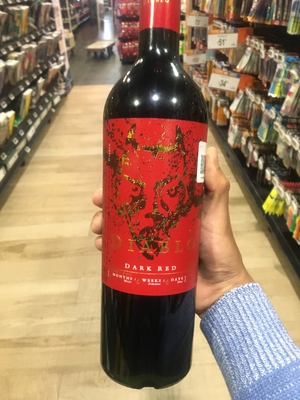diablo dark red: (83, 2, 229, 400)
